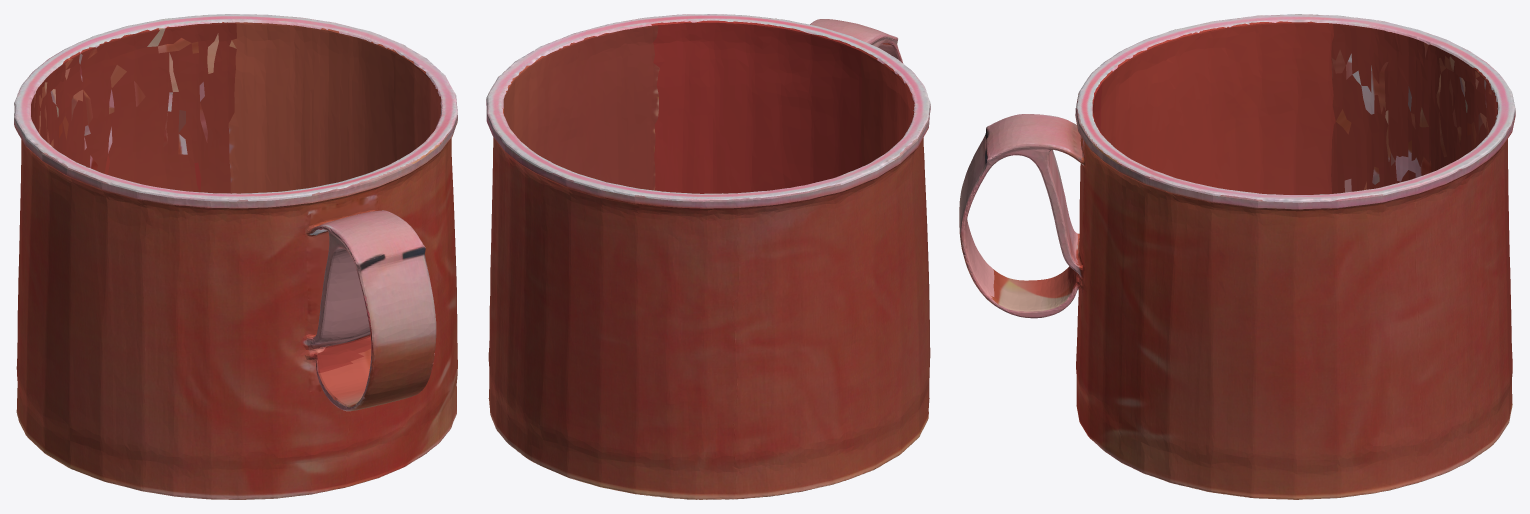
File: image_0000_segmented.glb
3 renders of one model, left to right at view 1: azimuth 30°, elevation 25°; view 2: azimuth 150°, elevation 25°; view 3: azimuth 270°, elevation 25°, orthographic.
Visible parts, largest first — view 1: tmpt4zzip0y.ply; view 2: tmpt4zzip0y.ply; view 3: tmpt4zzip0y.ply.
Boxes of the visible parts, left/top/right/bottom form: tmpt4zzip0y.ply: left=14, top=14, right=457, bottom=499; tmpt4zzip0y.ply: left=486, top=14, right=930, bottom=499; tmpt4zzip0y.ply: left=959, top=14, right=1515, bottom=499.
Bounding box in the file's own units: 1.59 × 1.19 × 1.99.
Materials: 1 (1 with a texture image).
